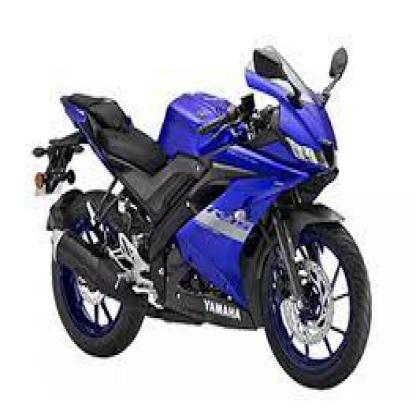bike: (30, 40, 375, 396)
